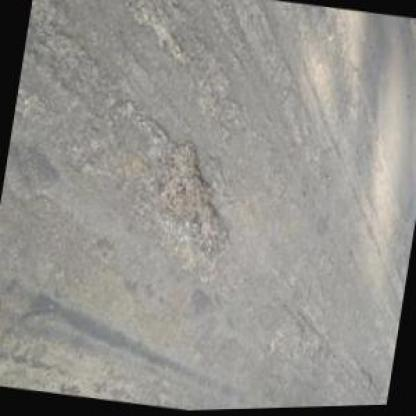pothole: (148, 134, 234, 247)
